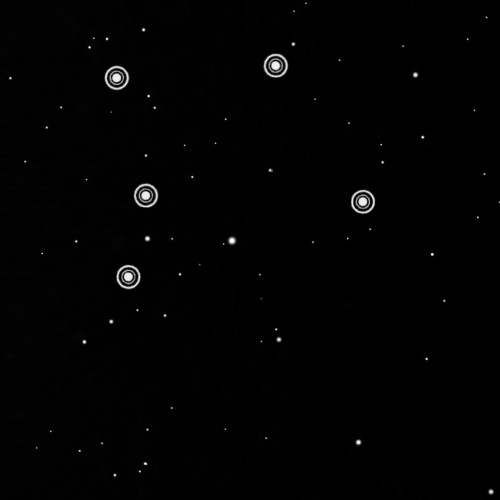libra: (94, 47, 381, 296)
